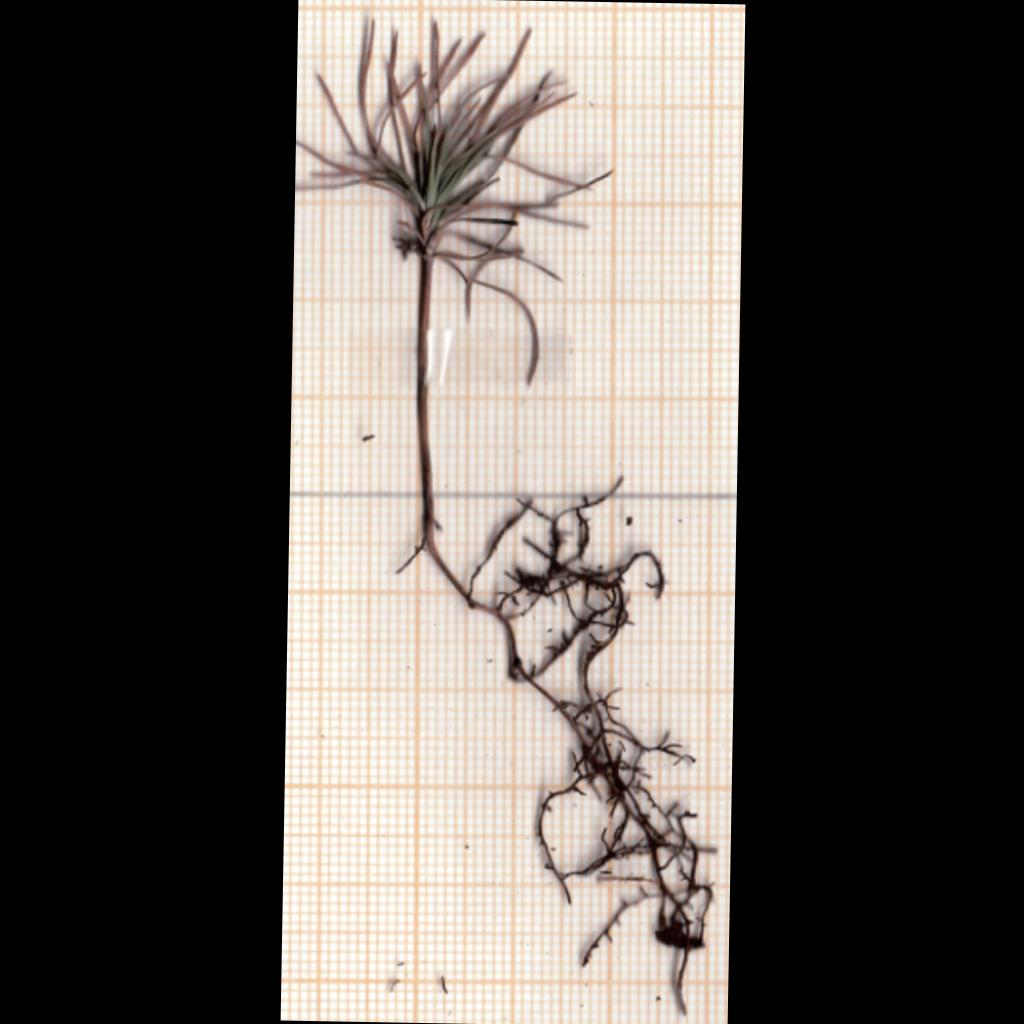flowerCedr: (296, 21, 602, 381)
rootCedr: (397, 479, 715, 1015)
stemCedr: (417, 256, 435, 549)
